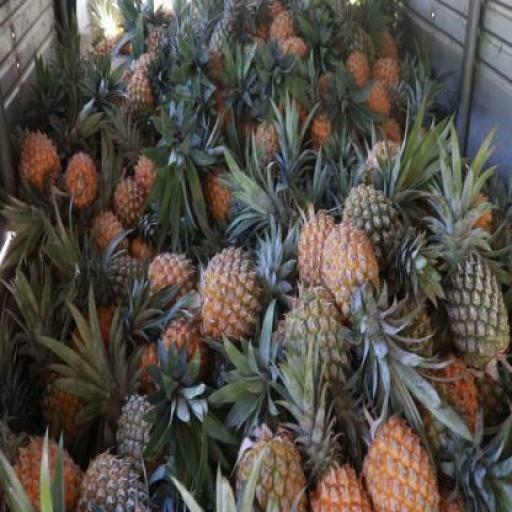------------------------------: (273, 293, 341, 393), (340, 189, 404, 287), (36, 376, 87, 452), (118, 71, 150, 130)
Pineapple - v8 v1: (361, 420, 440, 510), (320, 229, 384, 331), (196, 248, 259, 344), (7, 426, 75, 512), (296, 218, 345, 306), (149, 318, 194, 398), (146, 249, 190, 306), (15, 128, 55, 188), (107, 179, 145, 233), (62, 147, 93, 206)
